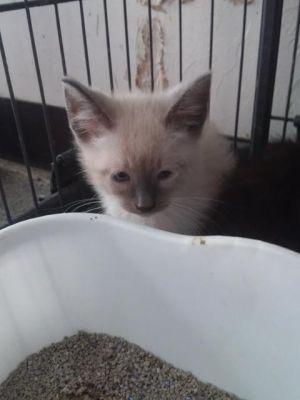siamese: (55, 63, 224, 231)
